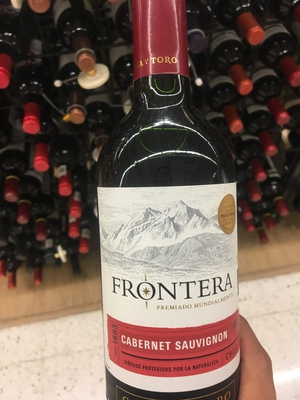frontera cabernet sauvignon: (90, 21, 252, 400)
